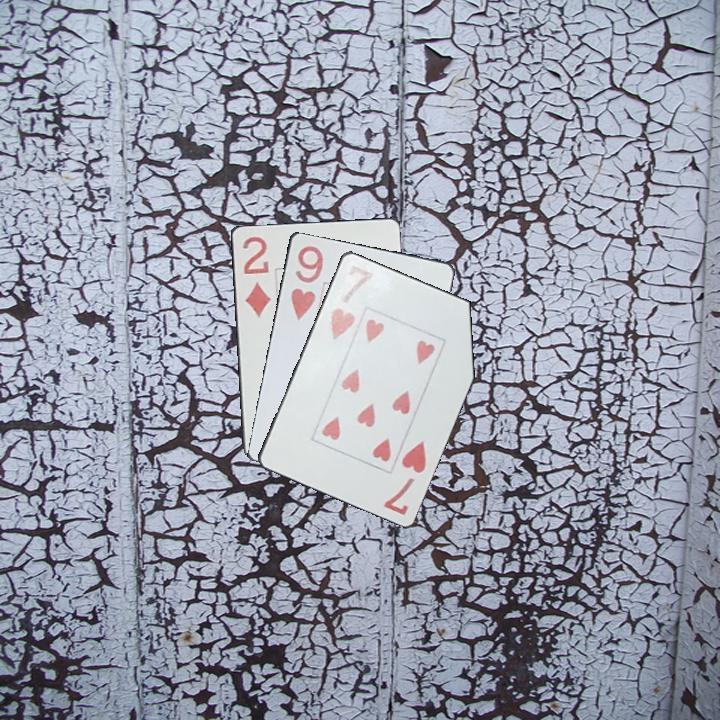2d: (239, 232, 273, 320)
7h: (327, 261, 377, 342), (380, 437, 429, 518)
9h: (287, 242, 326, 324)
